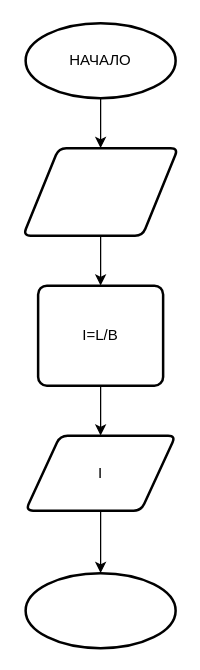
Some shapes in this 200 by 670 pixel diagram are drawn without their labels. The shapes that lost their labels are listed below. From the top down, each one's box as (x1, y1, x2, y2) in pixels, then its label:
(21, 146, 179, 236): L, B
(24, 571, 176, 649): КОНЕЦ
